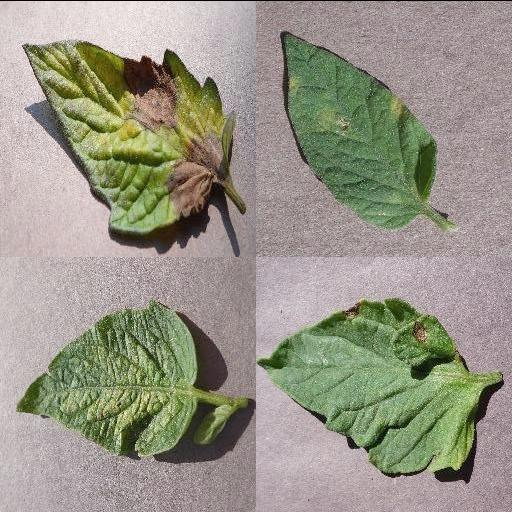Early Blight: (258, 297, 478, 475)
Late Blight: (20, 39, 234, 231)
Leaf Mold: (282, 30, 438, 230)
Spider Mites: (13, 300, 199, 456)
